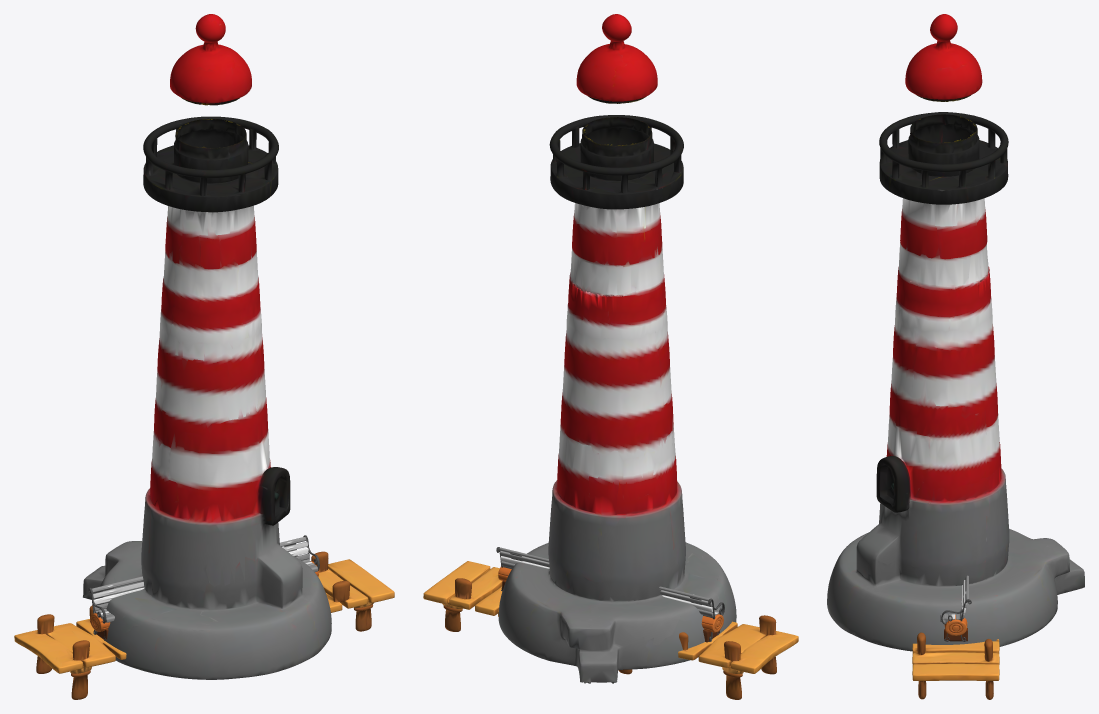
3 renders of one model, left to right at view 1: azimuth 30°, elevation 25°; view 2: azimuth 150°, elevation 25°; view 3: azimuth 270°, elevation 25°, orthographic. The views are drawn at different scales.
Visible parts, largest first — view 1: Cp_lighthouse, Cp_boardwalk, Cp_bench; view 2: Cp_lighthouse, Cp_boardwalk, Cp_bench, Cp_bench_log; view 3: Cp_lighthouse, Cp_boardwalk, Cp_bench, Cp_bench_log.
Boxes of the visible parts, x1,y1,x2,y2 form: Cp_lighthouse: (83, 14, 331, 679); Cp_boardwalk: (14, 551, 394, 699); Cp_bench: (88, 535, 319, 641); Cp_lighthouse: (498, 14, 736, 683); Cp_boardwalk: (423, 561, 798, 699); Cp_bench: (496, 547, 724, 641); Cp_bench_log: (498, 566, 723, 642); Cp_lighthouse: (827, 14, 1084, 651); Cp_boardwalk: (912, 632, 999, 699); Cp_bench: (940, 575, 971, 641); Cp_bench_log: (944, 615, 967, 641).
Size of the model in its own units: 7.7 by 14.03 by 5.32.
Materials: 8 (8 with a texture image).
